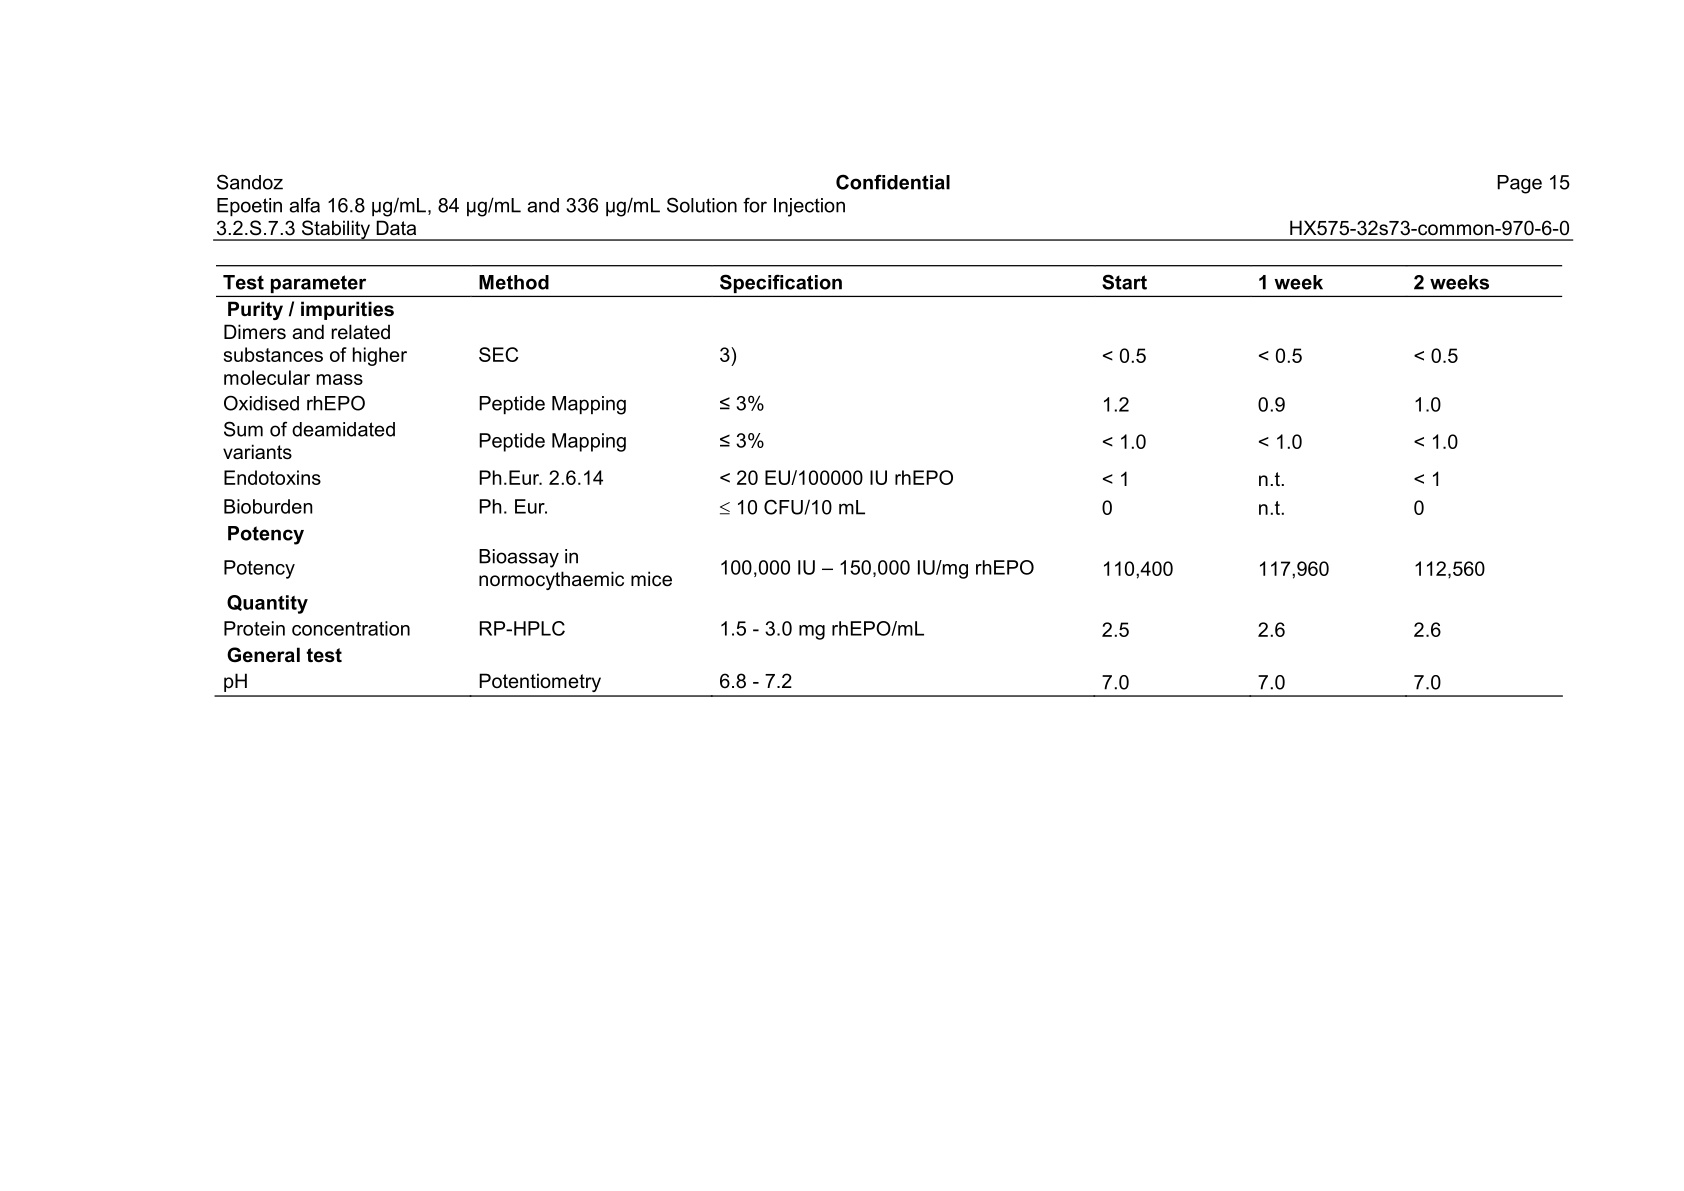partial_lined: (218, 263, 1564, 699)
